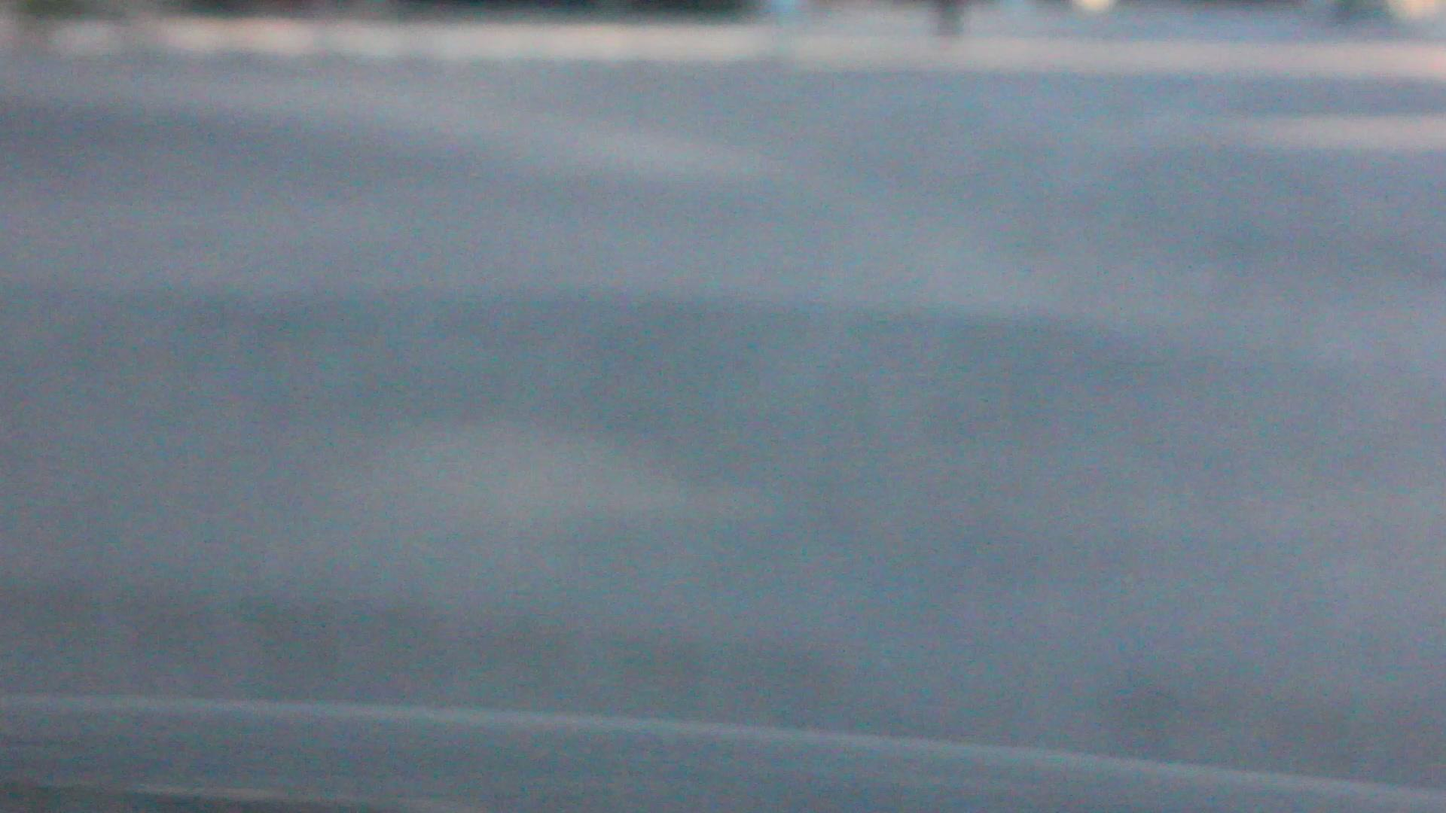Bump: (2, 254, 1445, 445)
